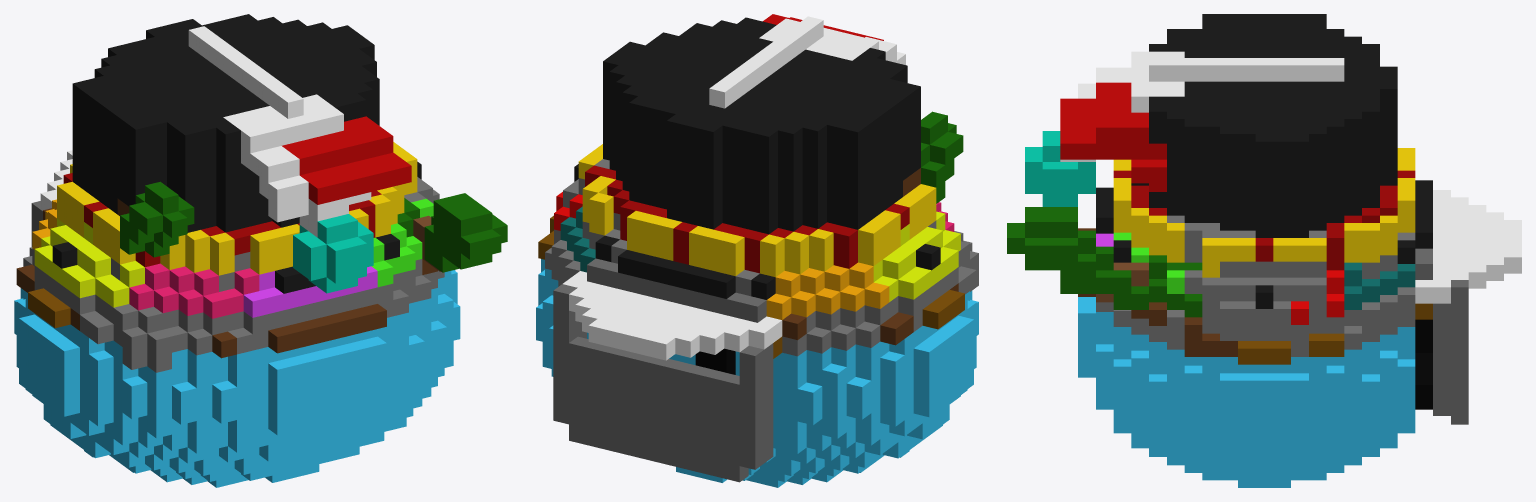
Rendered from hatttt.gltf.
The picture shows the model from 3 angles, left to right: view 1: azimuth 30°, elevation 25°; view 2: azimuth 150°, elevation 25°; view 3: azimuth 270°, elevation 25°; orthographic projection.
Parts seen in each view (by area): view 1: Layer.1, Layer.9, Layer.2, Layer.4, Layer.3, Layer.8, Layer.5, Layer.7; view 2: Layer.9, Layer.7, Layer.1, Layer.4, Layer.5, Layer.2, Layer.3, Layer.8; view 3: Layer.9, Layer.1, Layer.2, Layer.4, Layer.3, Layer.5, Layer.7, Layer.8, Layer.6.
Boxes of the visible parts, <box> form: Layer.1: <box>14,270,460,487</box>; Layer.9: <box>52,14,421,293</box>; Layer.2: <box>23,116,444,372</box>; Layer.4: <box>32,26,433,318</box>; Layer.3: <box>16,181,507,358</box>; Layer.8: <box>223,94,373,293</box>; Layer.5: <box>57,142,417,275</box>; Layer.7: <box>28,201,70,328</box>; Layer.9: <box>574,17,940,299</box>; Layer.7: <box>538,215,964,482</box>; Layer.1: <box>536,259,978,487</box>; Layer.4: <box>554,16,960,360</box>; Layer.5: <box>578,144,936,277</box>; Layer.2: <box>545,14,978,356</box>; Layer.3: <box>782,111,963,345</box>; Layer.8: <box>759,18,905,64</box>; Layer.9: <box>1096,14,1432,308</box>; Layer.1: <box>1078,297,1432,487</box>; Layer.2: <box>1060,82,1415,356</box>; Layer.4: <box>1096,58,1521,324</box>; Layer.3: <box>1007,207,1237,356</box>; Layer.5: <box>1113,148,1415,277</box>; Layer.7: <box>1238,248,1468,424</box>; Layer.8: <box>1025,51,1184,206</box>; Layer.6: <box>1415,353,1432,409</box>.
Bounding box in the file's own units: 25 × 24 × 29.
1 material, 1 textured.
